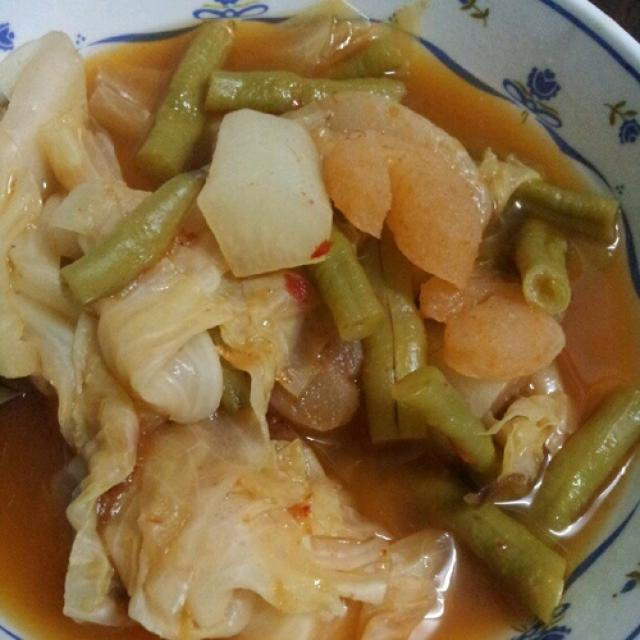汤锅炖物: (22, 20, 617, 626)
